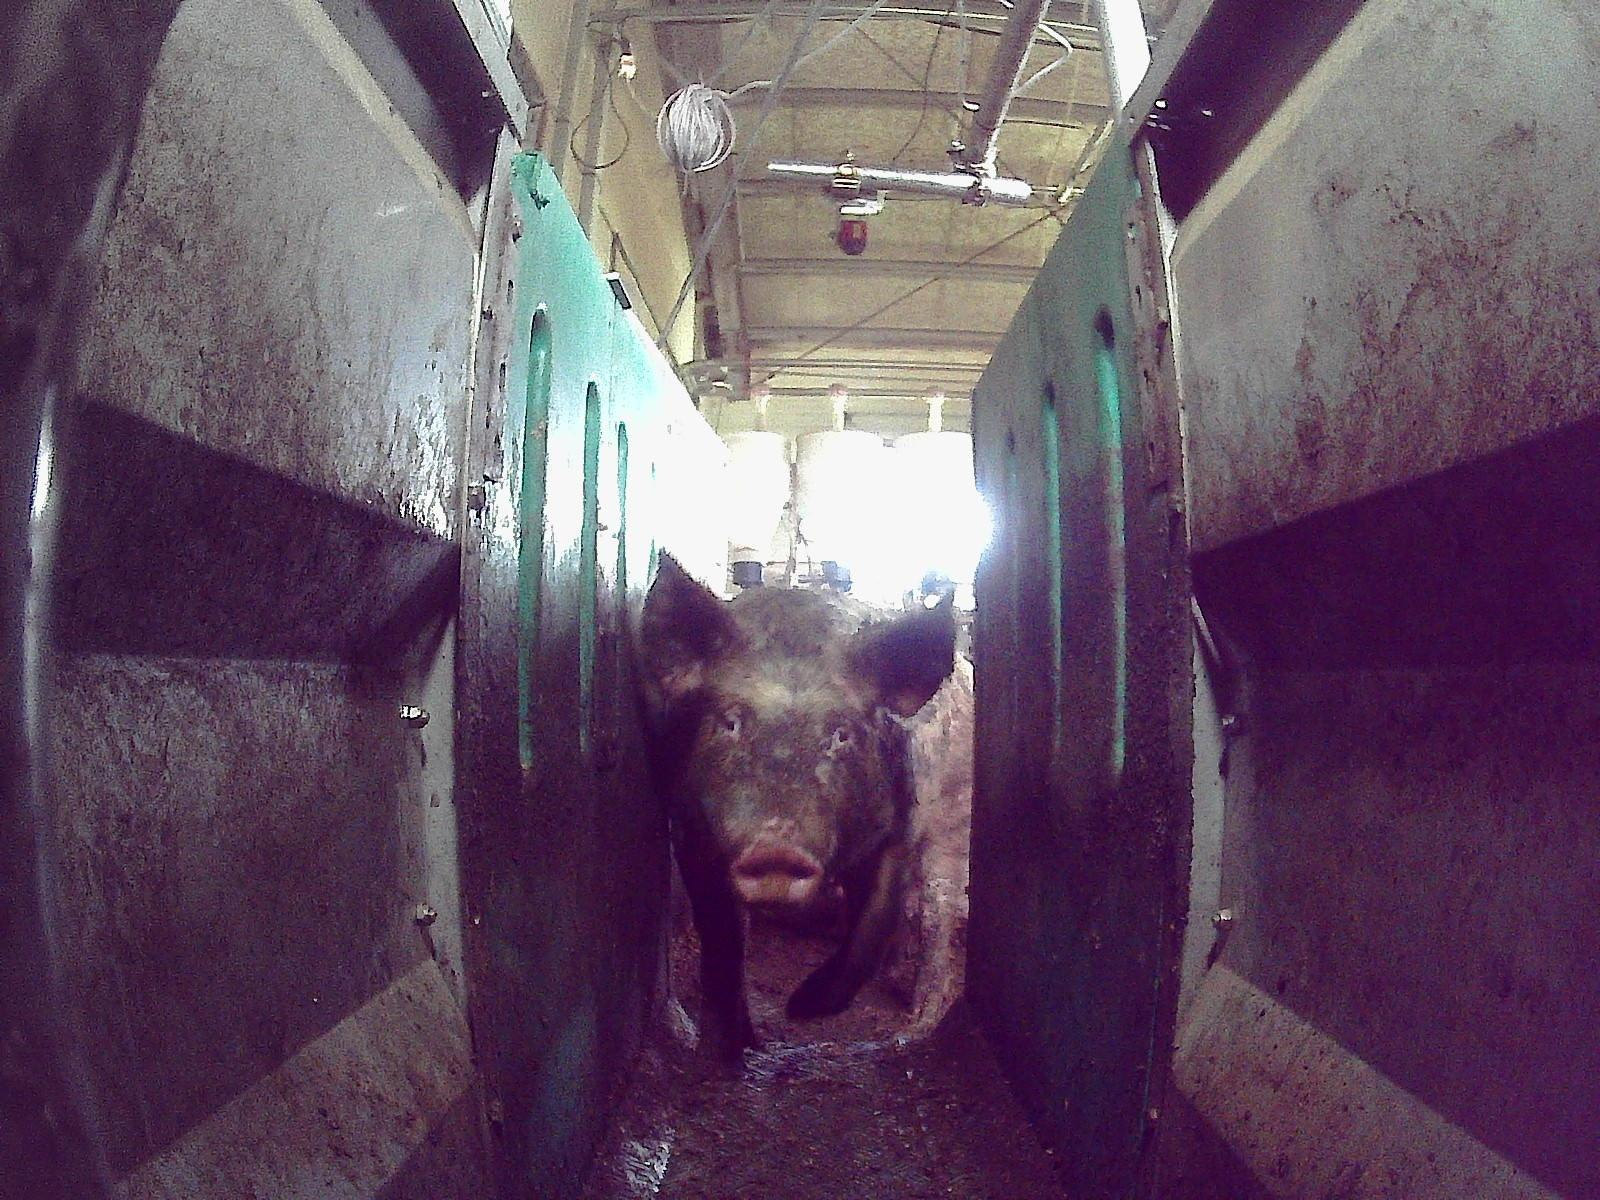Face: (686, 651, 883, 903)
